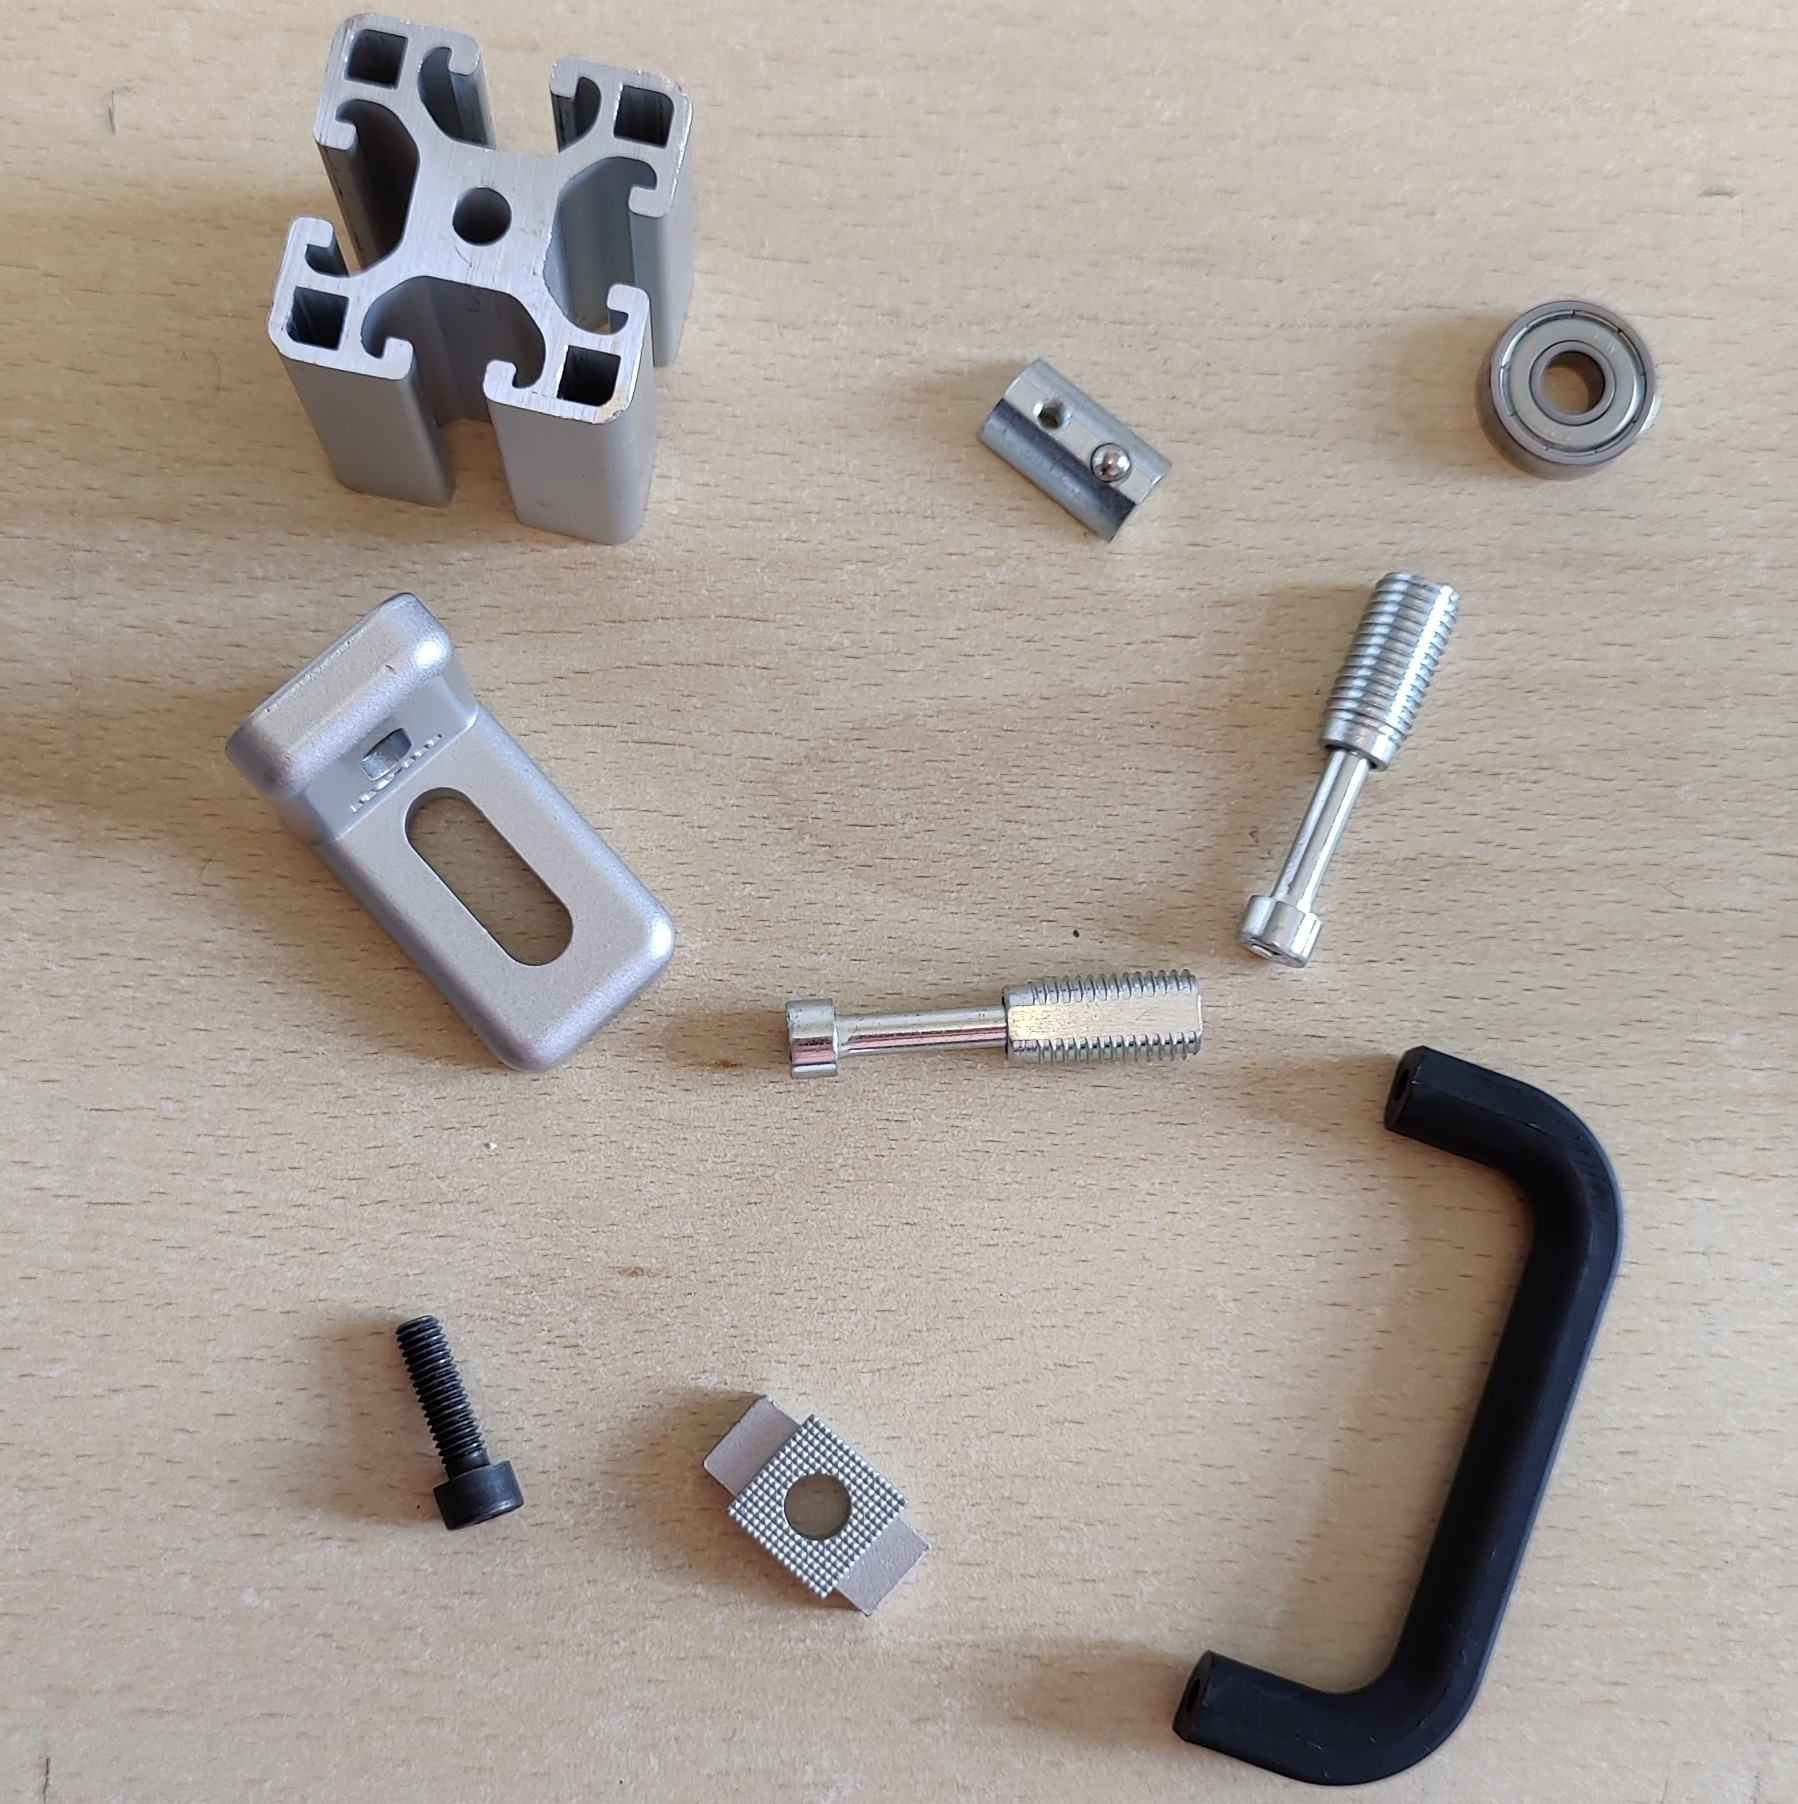Aluminium Extension: (267, 12, 696, 548)
Ball Bearing: (1474, 296, 1660, 482)
Multiwinkel: (222, 593, 677, 1073)
Pull Handle: (1171, 1042, 1627, 1789)
Shoulder Socket Head Cap Screw: (1235, 570, 1462, 968), (785, 961, 1204, 1081)
Socket Head Cap Screw: (394, 1312, 525, 1534)
T Nut Square: (700, 1393, 930, 1620)
T Spring Nut: (976, 356, 1172, 545)
